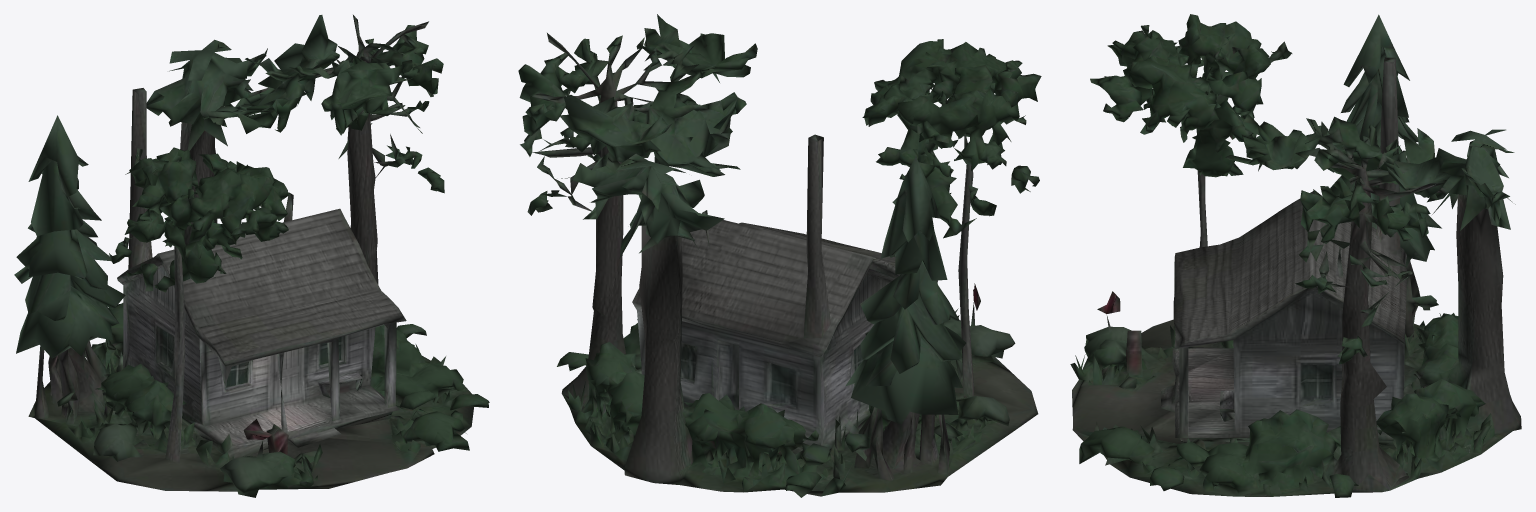
File: outpost.glb
3 views of the same model, side by side, from view 1: azimuth 30°, elevation 25°; view 2: azimuth 150°, elevation 25°; view 3: azimuth 270°, elevation 25° (orthographic). The views are drawn at different scales.
Visible parts, largest first — view 1: Mesh_0; view 2: Mesh_0; view 3: Mesh_0.
Part boxes in pixels (<box>): Mesh_0: <box>14,15,489,497</box>; Mesh_0: <box>518,14,1041,497</box>; Mesh_0: <box>1070,14,1521,497</box>.
Bounding box in the file's own units: 1.89 × 1.4 × 1.72.
Materials: 1 (1 with a texture image).
